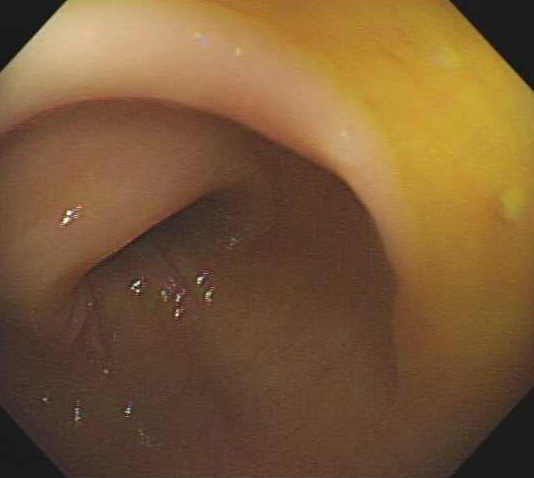others: (210, 152, 279, 244)
